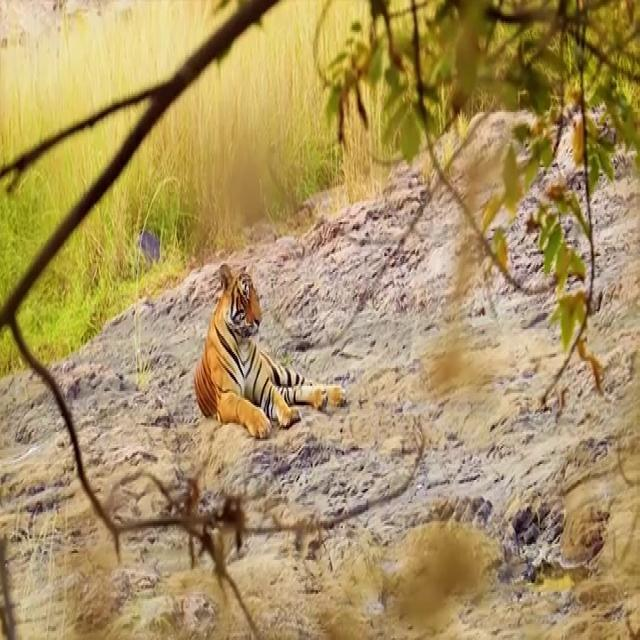tiger: (193, 261, 347, 440)
